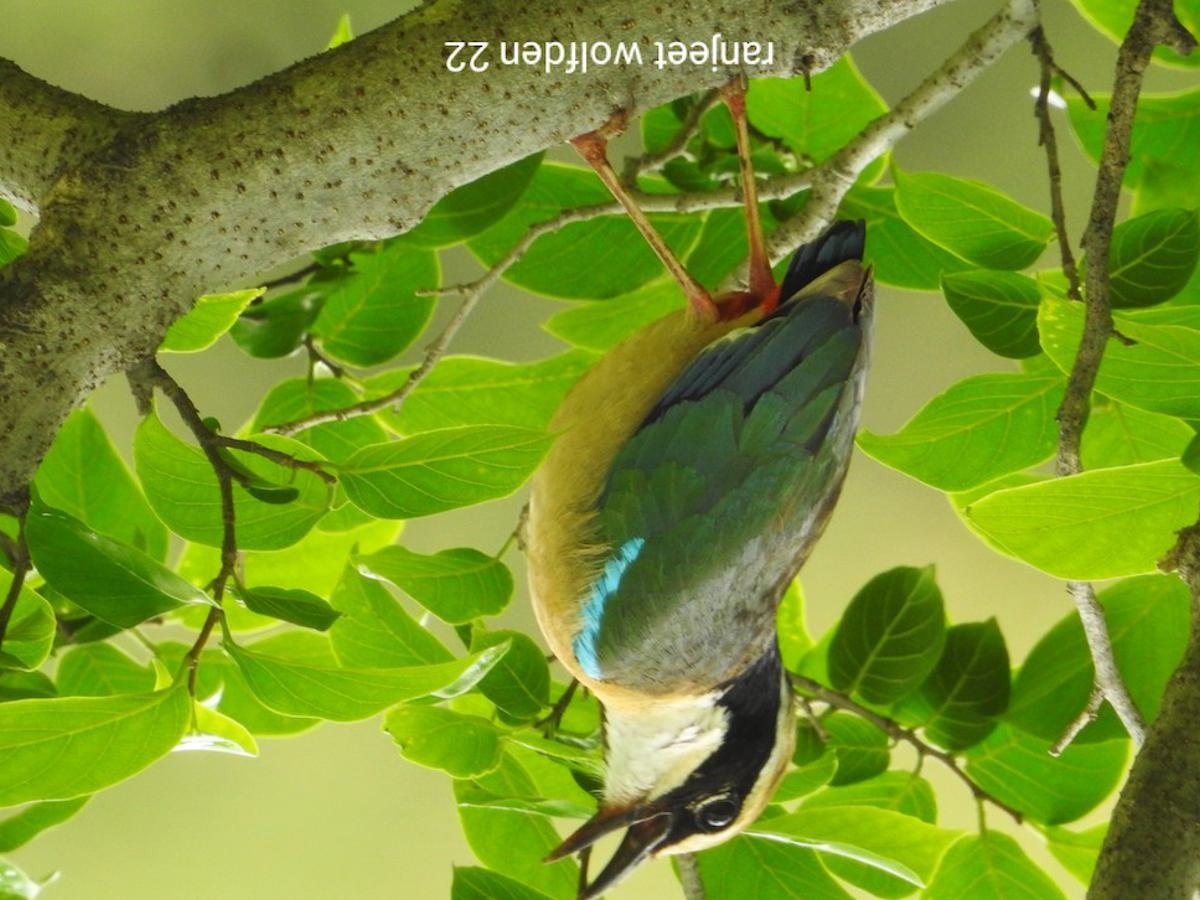pitta: (439, 207, 1007, 900)
